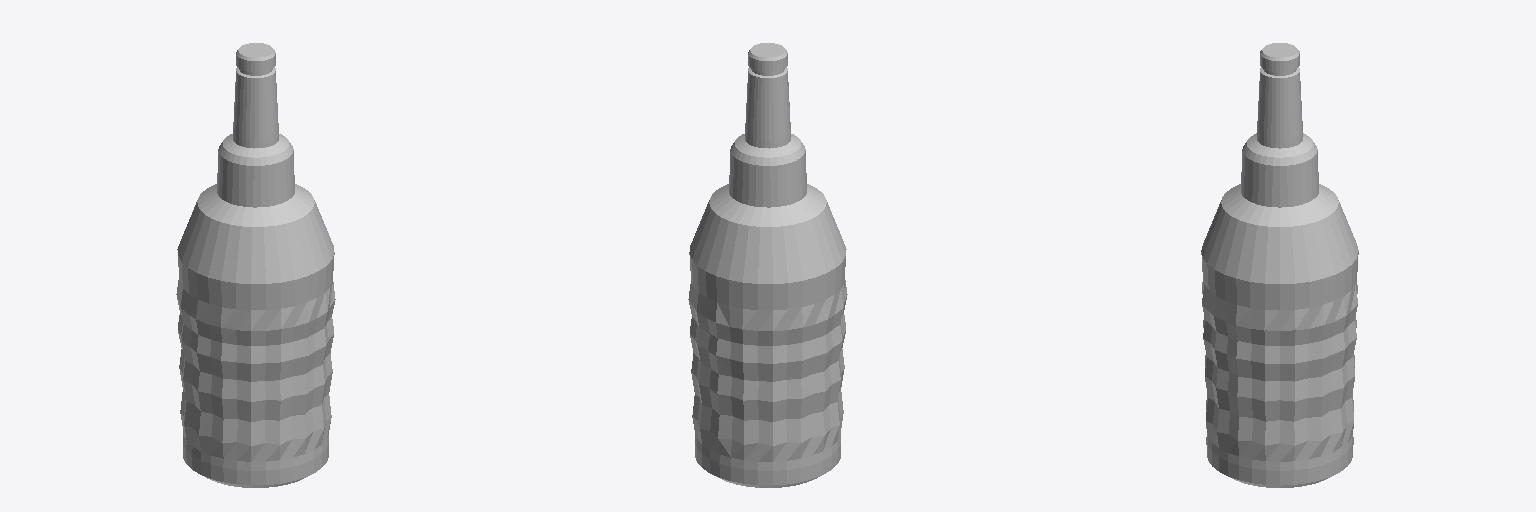
File: bottle_liquor_med.obj
3 renders of one model, left to right at view 1: azimuth 30°, elevation 25°; view 2: azimuth 150°, elevation 25°; view 3: azimuth 270°, elevation 25°, orthographic.
Visible parts, largest first — view 1: Circle_Circle.001; view 2: Circle_Circle.001; view 3: Circle_Circle.001.
Part boxes in pixels (x1,y1,x2,y2): Circle_Circle.001: (176,43,335,487); Circle_Circle.001: (688,43,847,487); Circle_Circle.001: (1201,43,1358,487).
Bounding box in the file's own units: 3.56 × 10.27 × 3.56.